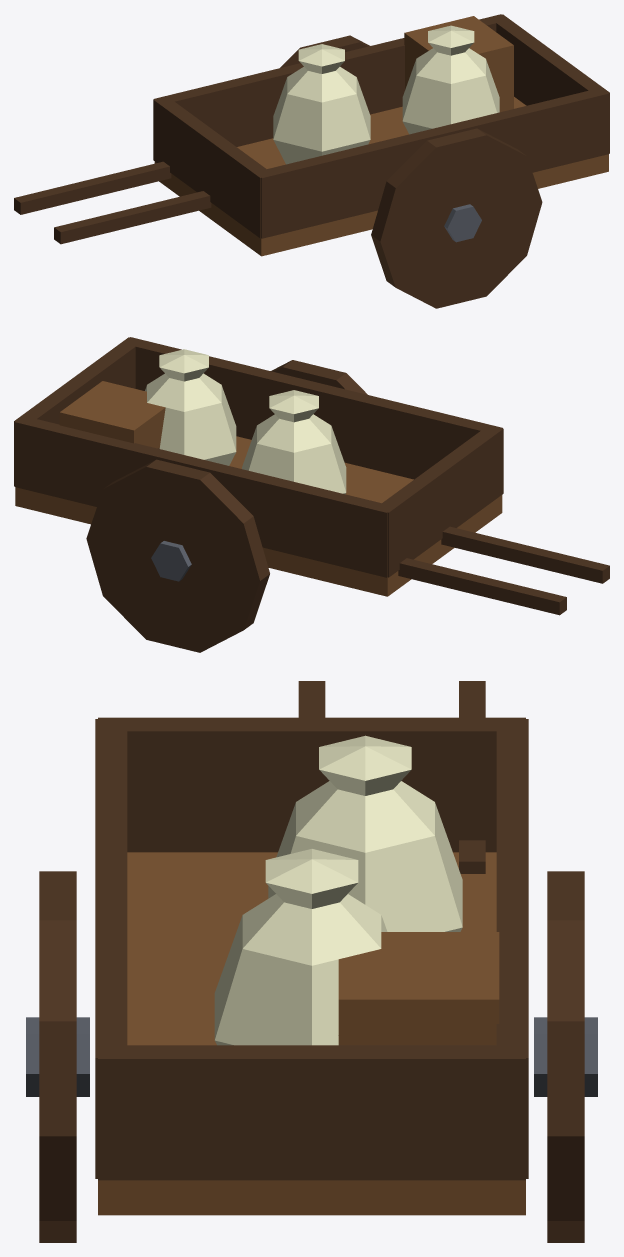
File: cart_wooden.fbx
The picture shows the model from 3 angles, top to bottom: view 1: azimuth 30°, elevation 25°; view 2: azimuth 150°, elevation 25°; view 3: azimuth 270°, elevation 25°; orthographic projection. The views are drawn at different scales.
Visible parts, largest first — view 1: cart_wooden; view 2: cart_wooden; view 3: cart_wooden.
Boxes of the visible parts, left/top/right/bottom form: cart_wooden: left=14, top=14, right=609, bottom=308; cart_wooden: left=14, top=337, right=609, bottom=652; cart_wooden: left=26, top=681, right=597, bottom=1242.
Bounding box in the file's own units: 4.31 × 1.72 × 2.14.
1 material, 1 textured.
